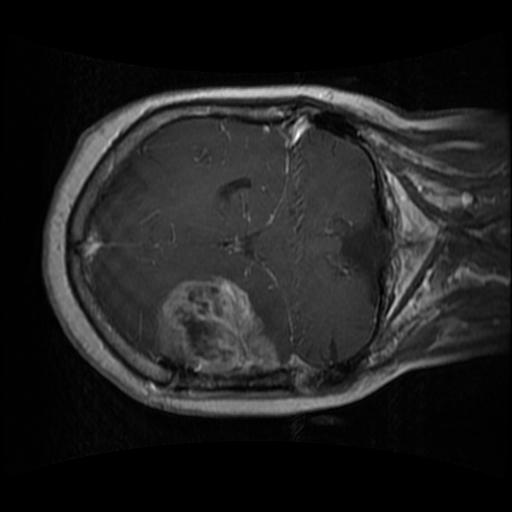glioma: (154, 274, 282, 377)
